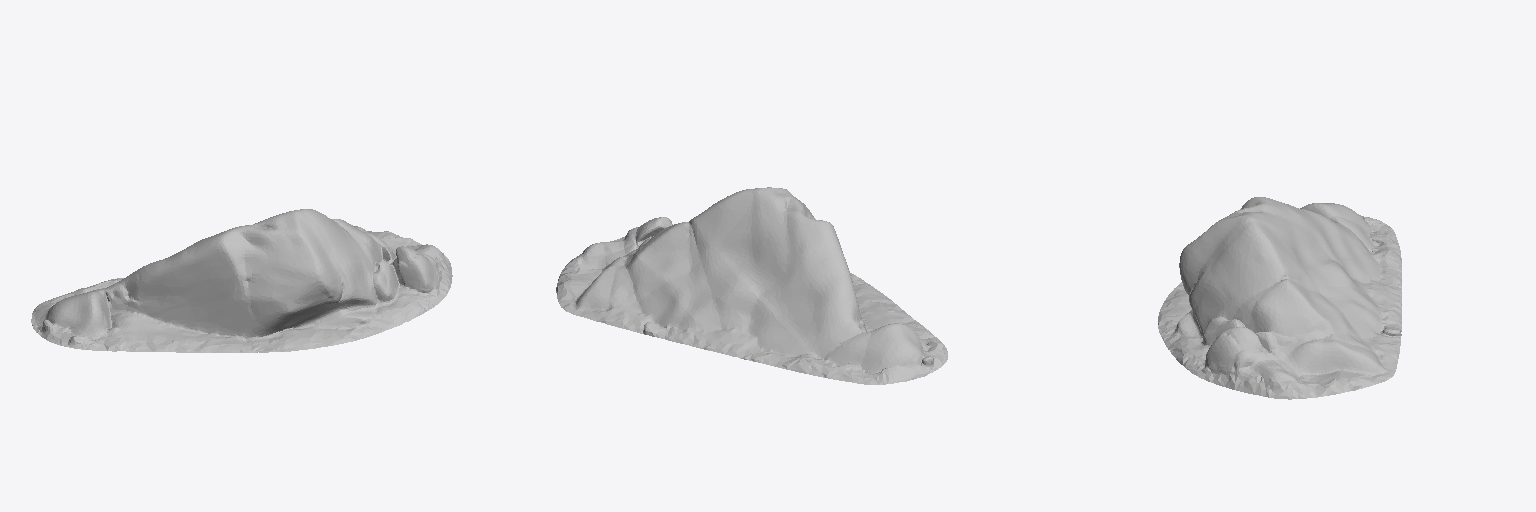
The model's file is rock.obj.
The picture shows the model from 3 angles: view 1: azimuth 30°, elevation 25°; view 2: azimuth 150°, elevation 25°; view 3: azimuth 270°, elevation 25°; orthographic projection.
Visible parts, largest first — view 1: Aset_nature_rock_M_weoodcm_00_LOD0; view 2: Aset_nature_rock_M_weoodcm_00_LOD0; view 3: Aset_nature_rock_M_weoodcm_00_LOD0.
Part boxes in pixels (left/top/right/bottom): Aset_nature_rock_M_weoodcm_00_LOD0: left=31, top=209, right=452, bottom=352; Aset_nature_rock_M_weoodcm_00_LOD0: left=556, top=187, right=947, bottom=384; Aset_nature_rock_M_weoodcm_00_LOD0: left=1158, top=197, right=1401, bottom=399.
Bounding box in the file's own units: 1.84 × 0.457 × 1.01.